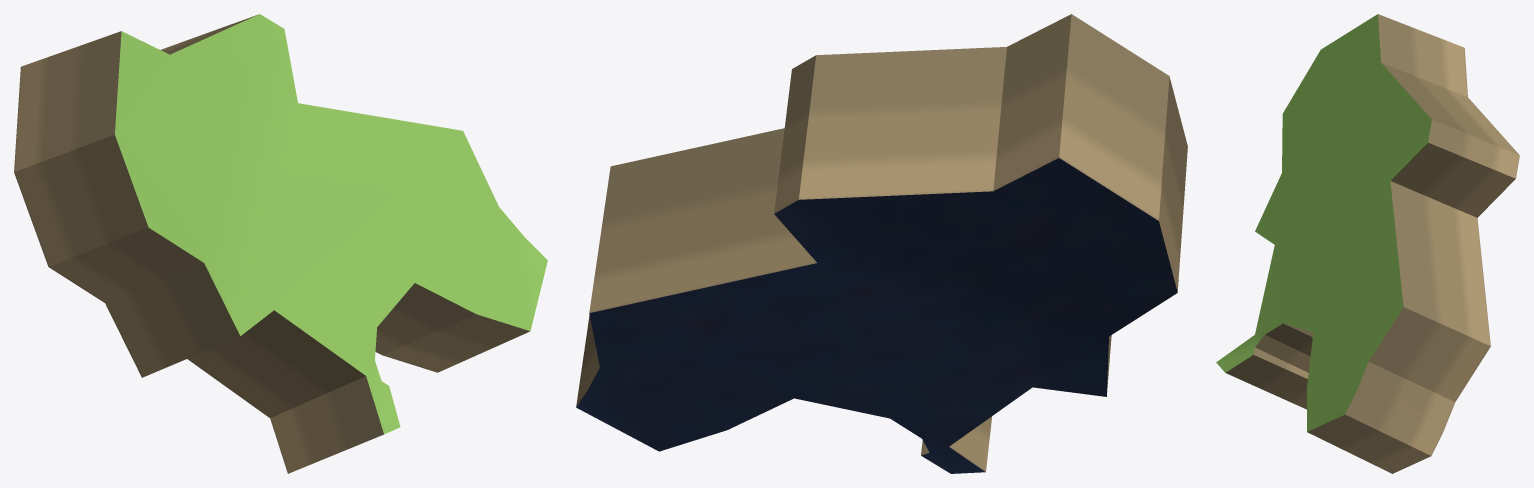
The model's file is 0692_Ukraine.glb.
3 views of the same model, side by side, from view 1: azimuth 30°, elevation 25°; view 2: azimuth 150°, elevation 25°; view 3: azimuth 270°, elevation 25° (orthographic). The views are drawn at different scales.
Parts seen in each view (by area): view 1: part_0; view 2: part_0; view 3: part_0.
Part boxes in pixels (left/top/right/bottom): part_0: left=14, top=14, right=547, bottom=473; part_0: left=576, top=14, right=1187, bottom=473; part_0: left=1216, top=14, right=1519, bottom=473.
Size of the model in its own units: 0.8042 by 0.6815 by 0.5456.
1 material, 1 textured.
